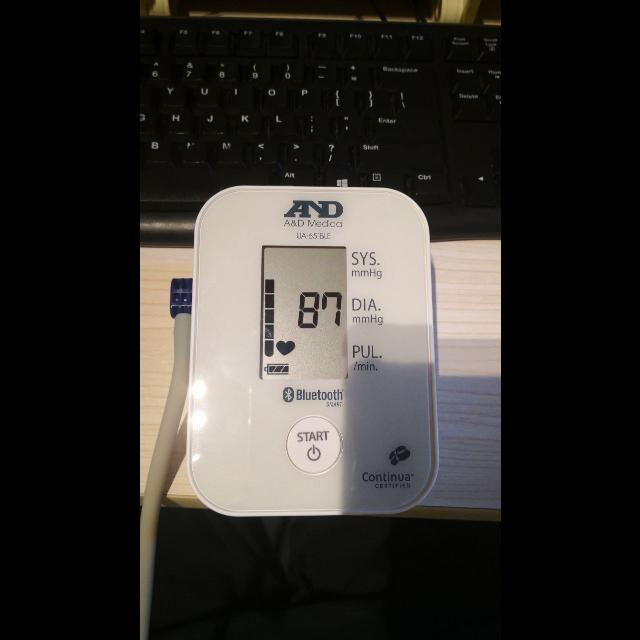Blood-Pressure-Monitor: (185, 185, 439, 518)
